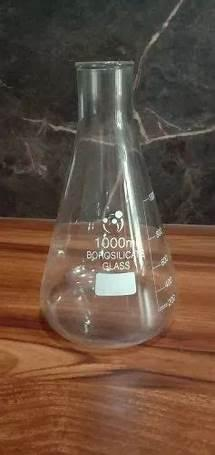Titrarion: (39, 42, 177, 351)
